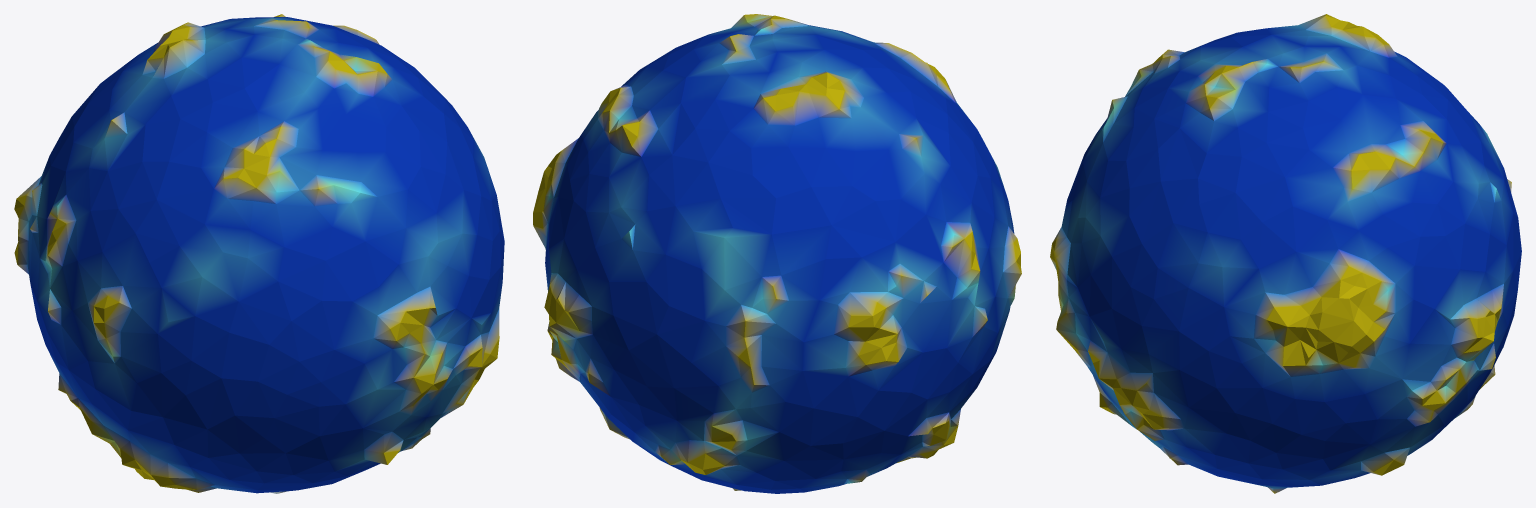
File: planet_73.fbx
3 views of the same model, side by side, from view 1: azimuth 30°, elevation 25°; view 2: azimuth 150°, elevation 25°; view 3: azimuth 270°, elevation 25° (orthographic). The views are drawn at different scales.
Visible parts, largest first — view 1: file1; view 2: file1; view 3: file1.
Boxes of the visible parts, box(x1,y1,x2,y2) form: file1: box(14, 14, 504, 493); file1: box(533, 14, 1021, 493); file1: box(1050, 14, 1521, 493).
Bounding box in the file's own units: 2.11 × 2.04 × 2.05.
